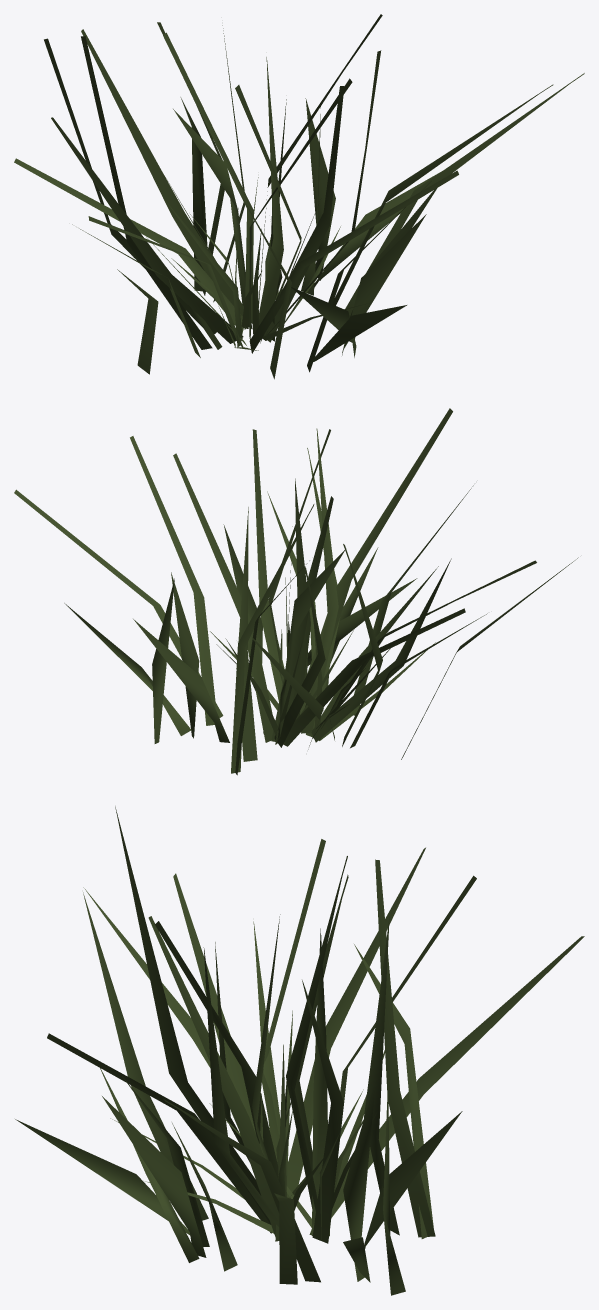
File: Grass 2.fbx
3 views of the same model, one above another, from view 1: azimuth 30°, elevation 25°; view 2: azimuth 150°, elevation 25°; view 3: azimuth 270°, elevation 25° (orthographic). The views are drawn at different scales.
Parts seen in each view (by area): view 1: Grass 2; view 2: Grass 2; view 3: Grass 2.
Boxes of the visible parts, x1=… form: Grass 2: x1=14, y1=14, x2=584, y2=379; Grass 2: x1=14, y1=408, x2=578, y2=775; Grass 2: x1=15, y1=806, x2=584, y2=1295.
Size of the model in its own units: 96.45 by 56.54 by 76.14.
